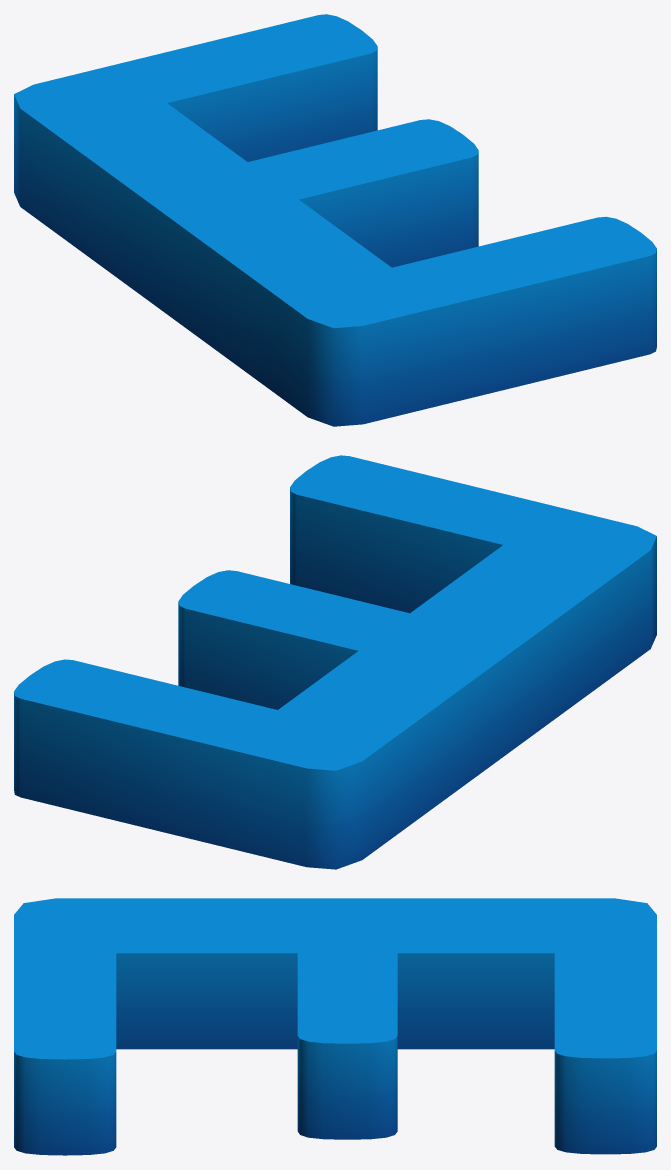
Rendered from letter_E.fbx.
The picture shows the model from 3 angles, top to bottom: view 1: azimuth 30°, elevation 25°; view 2: azimuth 150°, elevation 25°; view 3: azimuth 270°, elevation 25°; orthographic projection. The views are drawn at different scales.
Parts seen in each view (by area): view 1: letter_E; view 2: letter_E; view 3: letter_E.
Part boxes in pixels (bbox=[...]): letter_E: bbox=[14, 14, 656, 426]; letter_E: bbox=[14, 455, 656, 869]; letter_E: bbox=[14, 898, 656, 1155].
Size of the model in its own units: 13.49 by 3.75 by 22.76.
